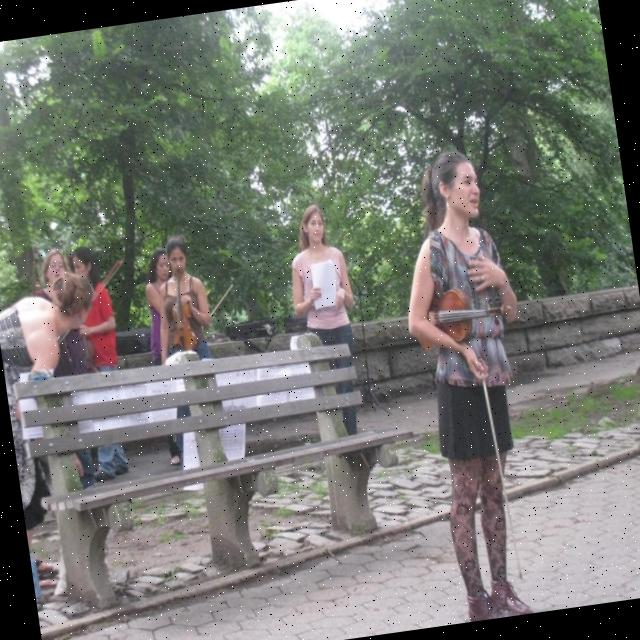violin: (415, 280, 517, 354), (163, 265, 200, 356)
